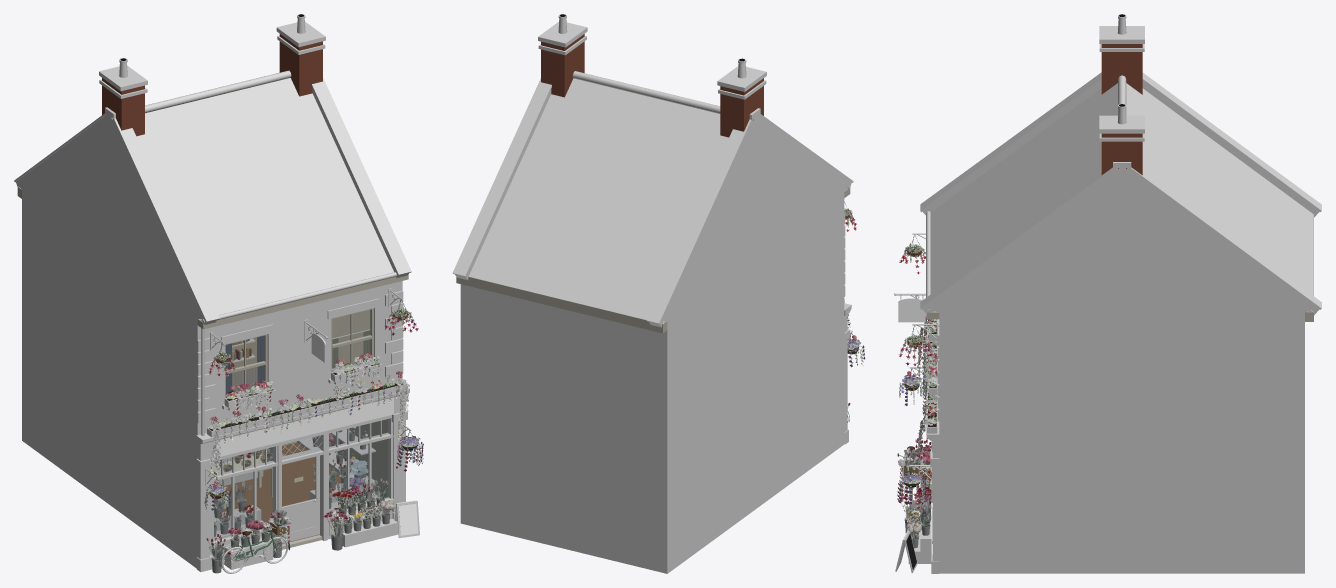
Rendered from Opposite_Opposite1_4.glb.
The picture shows the model from 3 angles, left to right: view 1: azimuth 30°, elevation 25°; view 2: azimuth 150°, elevation 25°; view 3: azimuth 270°, elevation 25°; orthographic projection. The views are drawn at different scales.
Parts seen in each view (by area): view 1: Opposite_Opposite1_4; view 2: Opposite_Opposite1_4; view 3: Opposite_Opposite1_4.
Boxes of the visible parts, box(x1,y1,x2,y2) form: Opposite_Opposite1_4: box(14, 14, 423, 573); Opposite_Opposite1_4: box(452, 14, 865, 573); Opposite_Opposite1_4: box(894, 14, 1321, 573).
Size of what is drawn, in the model's own units: 5.72 by 11.14 by 9.36.
